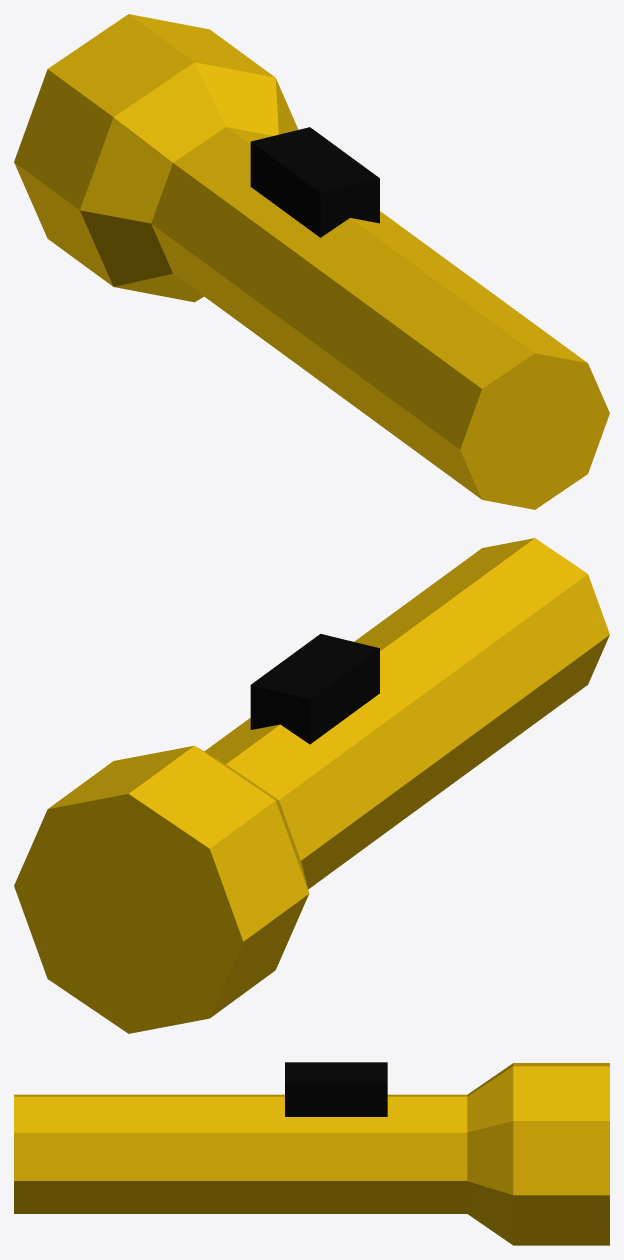
Rendered from flashlight.fbx.
The picture shows the model from 3 angles, top to bottom: view 1: azimuth 30°, elevation 25°; view 2: azimuth 150°, elevation 25°; view 3: azimuth 270°, elevation 25°; orthographic projection. The views are drawn at different scales.
Parts seen in each view (by area): view 1: Cylinder, Cube; view 2: Cylinder, Cube; view 3: Cylinder, Cube.
Part boxes in pixels (x1=…): Cylinder: x1=14, y1=14, x2=609, y2=509; Cube: x1=250, y1=127, x2=379, y2=237; Cylinder: x1=14, y1=538, x2=609, y2=1033; Cube: x1=250, y1=634, x2=379, y2=744; Cylinder: x1=14, y1=1063, x2=609, y2=1245; Cube: x1=285, y1=1062, x2=387, y2=1116.
Bounding box in the file's own units: 306 × 306 × 940.
